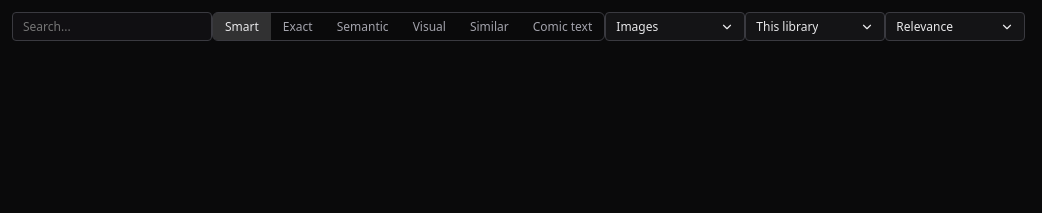
Test: SRC-13 — No matches › shows no matches message
The image size is (1042, 213).
Step 1. Type "no-match" into the field named "Search query" → (112, 26), box 12,12 -> 212,41
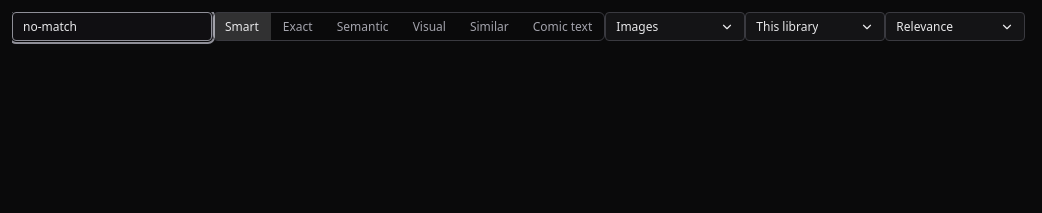
Step 2. Press Enter
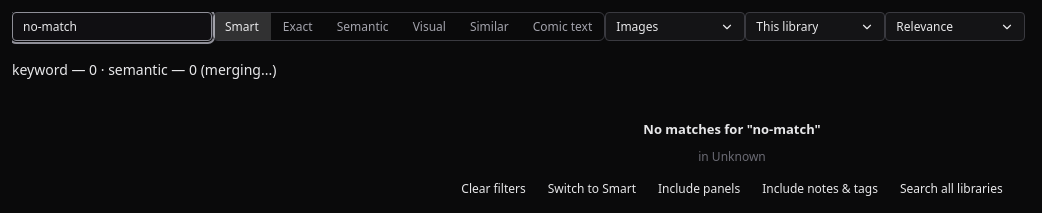
Result: the heading "No matches for \"no-match\"" is shown at 643,120 -> 821,140
